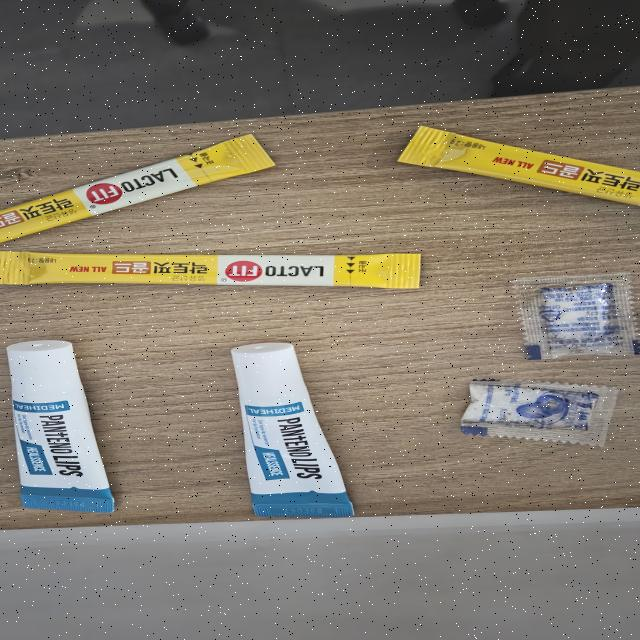lacto: (0, 134, 283, 239), (0, 243, 430, 298), (392, 119, 638, 212)
lib: (219, 341, 358, 518), (5, 337, 119, 513)
salt: (458, 371, 615, 450), (502, 271, 636, 358)
